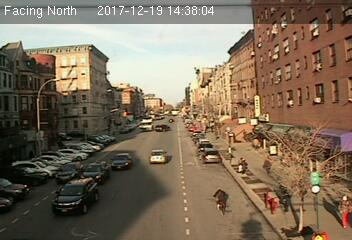bicycle: (212, 186, 230, 217)
car: (54, 177, 99, 216), (81, 161, 110, 182), (55, 161, 81, 180), (109, 153, 132, 169), (148, 148, 167, 163), (201, 148, 220, 163)
